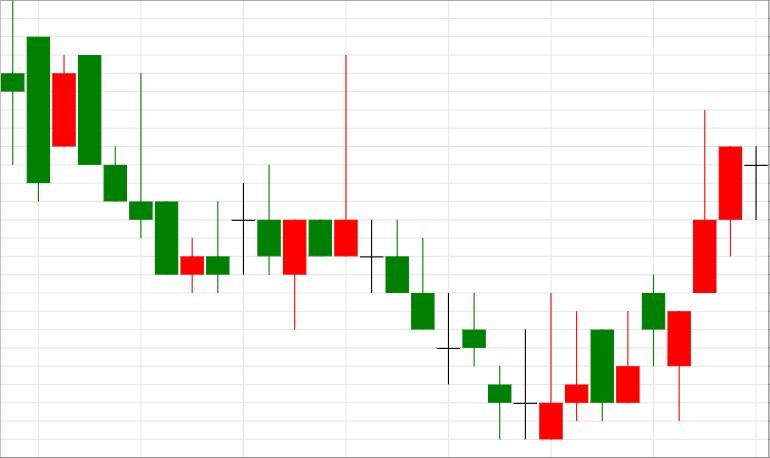inverse_hammer_rise: (360, 219, 562, 440)
